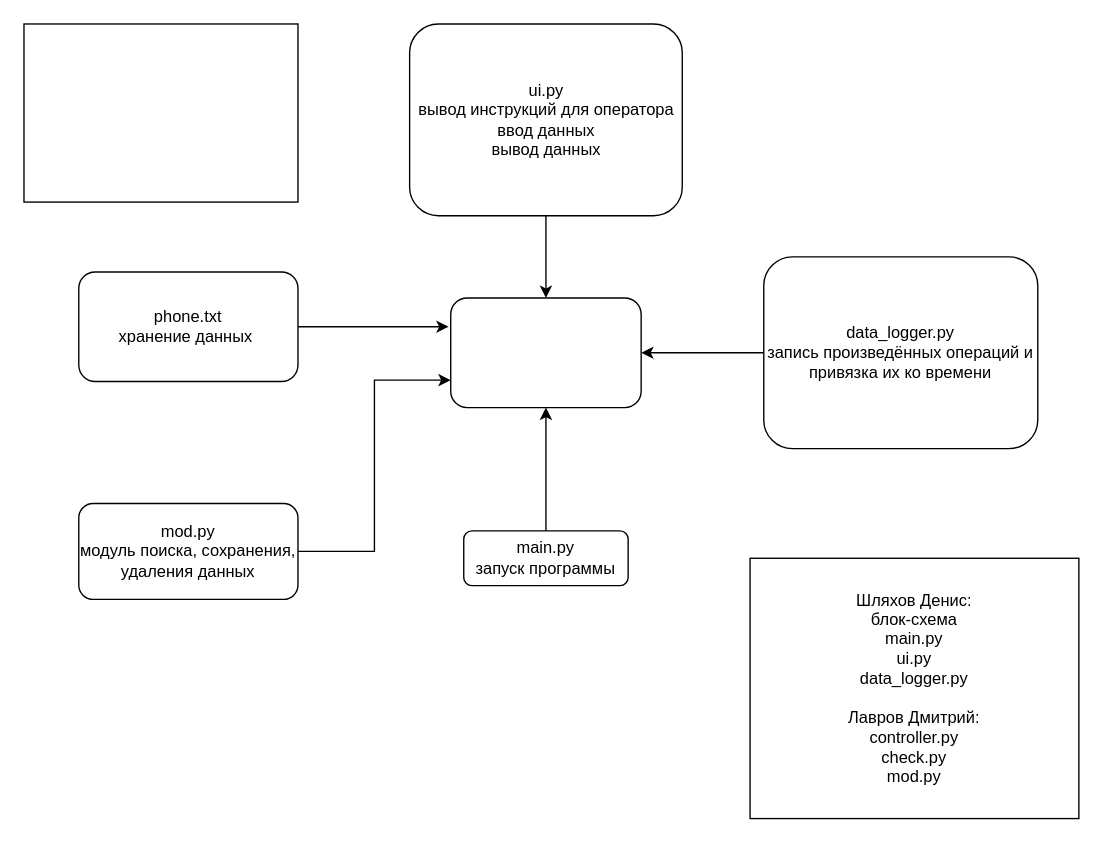
Image size: 1103x843. Some labels were removed from this diagram. Here are the shapes that lost their labels. From the top down, the box of each, then its label:
(23, 23, 298, 202): Блок схема программы "Справочник"
(449, 297, 641, 408): controller.py основной блок для обработки данных
